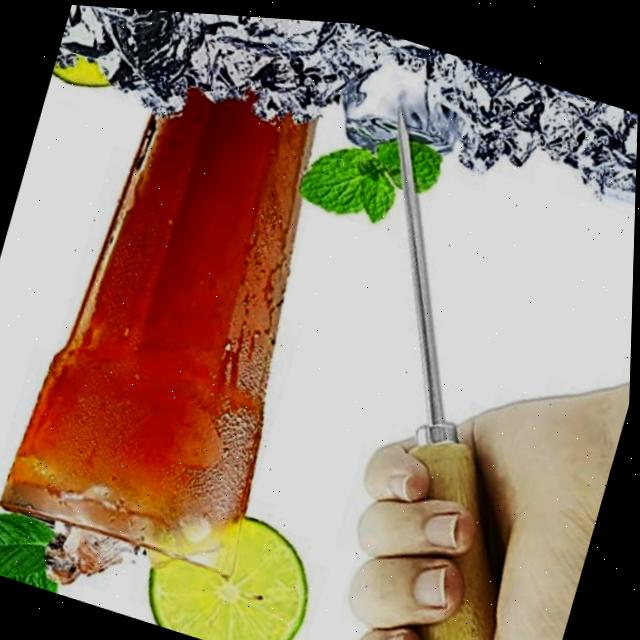ice pick: (246, 93, 638, 640)
